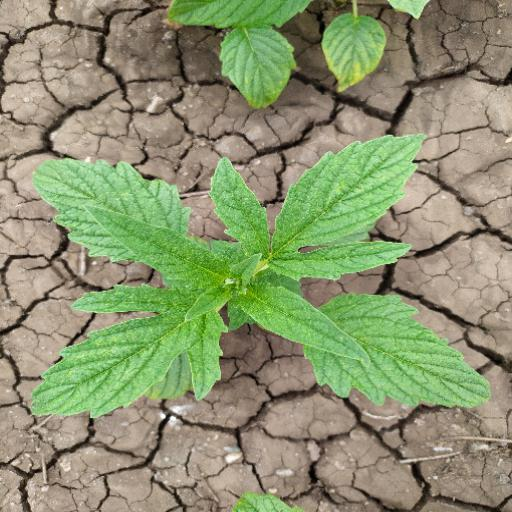crop: (9, 135, 502, 445)
